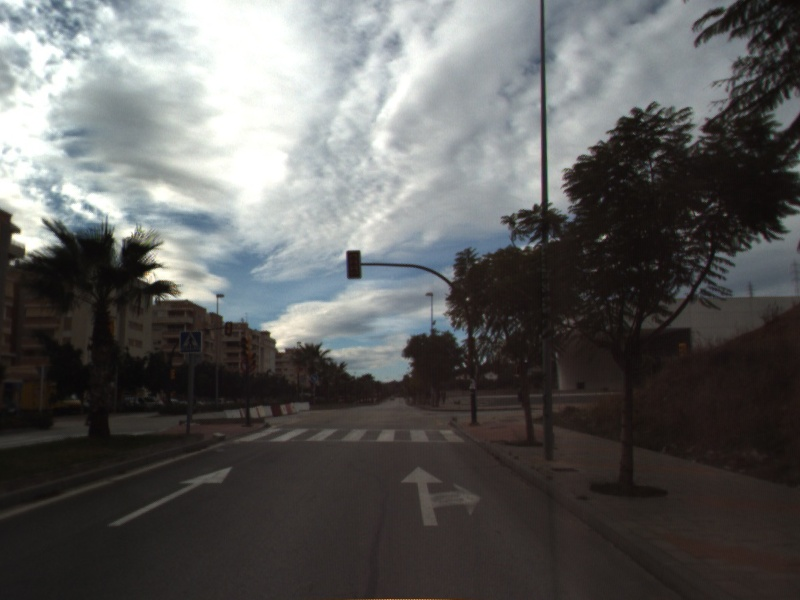STRAIGHT: (106, 465, 234, 528)
STRAIGHT_RIGHT: (399, 464, 483, 528)
